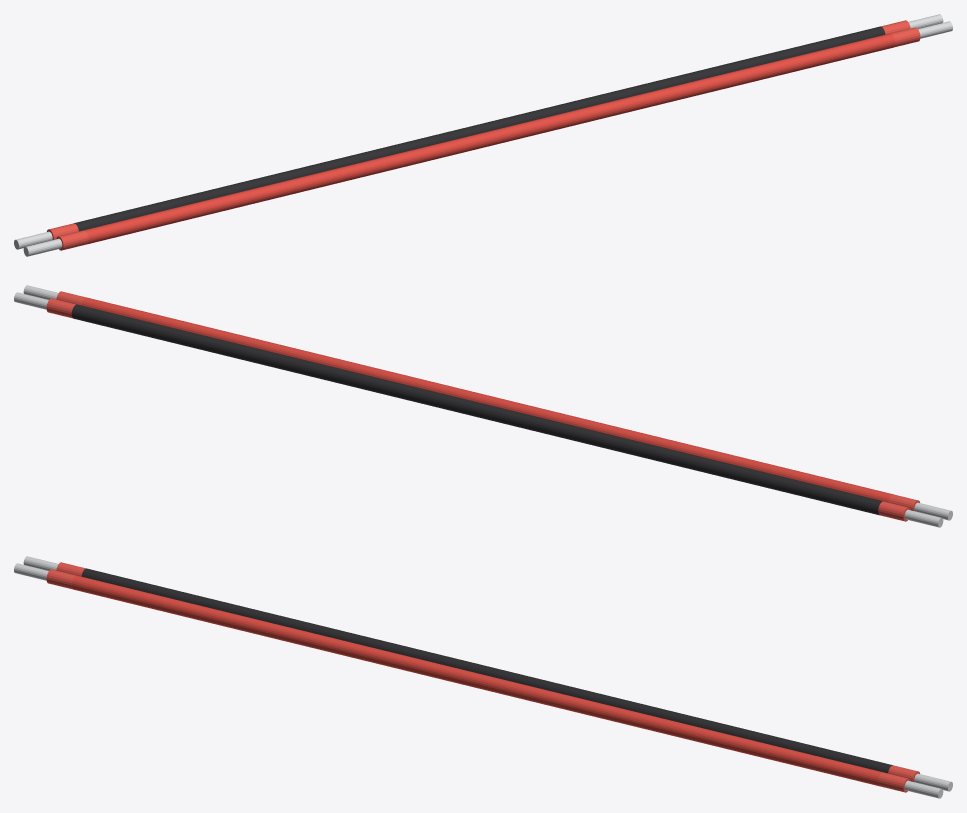
File: AP_CABLE_24V.glb
The picture shows the model from 3 angles, top to bottom: view 1: azimuth 30°, elevation 25°; view 2: azimuth 150°, elevation 25°; view 3: azimuth 330°, elevation 25°; orthographic projection.
Visible parts, largest first — view 1: aislante_positivo, aislante_negativo; view 2: aislante_negativo, aislante_positivo; view 3: aislante_positivo, aislante_negativo.
Boxes of the visible parts, <box> form: aislante_positivo: <box>84,33,895,244</box>; aislante_negativo: <box>74,26,885,231</box>; aislante_negativo: <box>71,304,882,515</box>; aislante_positivo: <box>81,297,892,502</box>; aislante_positivo: <box>71,575,882,786</box>; aislante_negativo: <box>81,568,892,773</box>.
Bounding box in the file's own units: 0.22 × 0.003 × 0.007.
